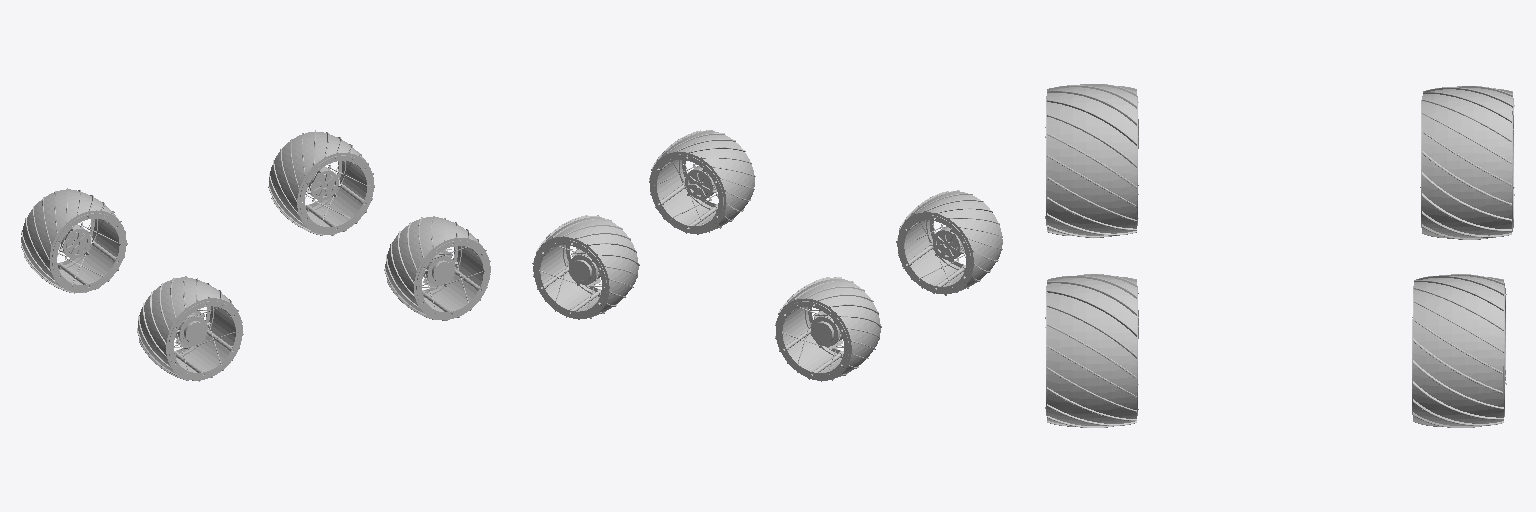
The robot description file, URDF, robot "ares_rover":
<?xml version="1.0" ?>
<!-- =================================================================================== -->
<!-- |    This document was autogenerated by xacro from ares_rover.urdf.xacro          | -->
<!-- |    EDITING THIS FILE BY HAND IS NOT RECOMMENDED                                 | -->
<!-- =================================================================================== -->
<robot name="ares_rover">
  <!-- Material Definitions -->
  <material name="mat_silver">
    <color rgba="0.8 0.8 0.8 1"/>
  </material>
  <!-- Base Link -->
  <link name="base_link">
    <inertial>
      <mass value="10"/>
      <inertia ixx="0.05" ixy="0" ixz="0" iyy="0.05" iyz="0" izz="0.1"/>
    </inertial>
    <visual>
      <origin rpy="0 0 0" xyz="0 0 0.495"/>
      <geometry>
        <mesh filename="package://ares_rover/meshes/ares_body.stl" scale="1 1 1"/>
      </geometry>
      <material name="mat_silver"/>
    </visual>
    <collision>
      <origin rpy="0 0 0" xyz="0 0 0"/>
      <geometry>
        <box size="0.8 0.6 0.2"/>
      </geometry>
    </collision>
  </link>
  <!-- Links (Arms) -->
  <!-- Left Link -->
  <link name="left_link">
    <inertial>
      <mass value="1"/>
      <inertia ixx="0.01" ixy="0" ixz="0" iyy="0.01" iyz="0" izz="0.02"/>
    </inertial>
    <visual>
      <origin rpy="0 -0 3.15" xyz="0 0.278 0.422"/>
      <geometry>
        <mesh filename="package://ares_rover/meshes/ares_link.stl" scale="1 1 1"/>
      </geometry>
    </visual>
    <collision>
      <origin rpy="0 0 0" xyz="0 0 0"/>
      <geometry>
        <box size="0.7 0.1 0.1"/>
      </geometry>
    </collision>
  </link>
  <!-- Right Link -->
  <link name="right_link">
    <inertial>
      <mass value="1"/>
      <inertia ixx="0.01" ixy="0" ixz="0" iyy="0.01" iyz="0" izz="0.02"/>
    </inertial>
    <visual>
      <origin rpy="0 0 0" xyz="0 -0.278 0.422"/>
      <geometry>
        <mesh filename="package://ares_rover/meshes/ares_link.stl" scale="1 1 1"/>
      </geometry>
    </visual>
    <collision>
      <origin rpy="0 0 0" xyz="0 0 0"/>
      <geometry>
        <box size="0.7 0.1 0.1"/>
      </geometry>
    </collision>
  </link>
  <!-- Joints between base_link and links -->
  <joint name="base_to_left_link" type="fixed">
    <parent link="base_link"/>
    <child link="left_link"/>
    <origin rpy="0 0 0" xyz="0 0 0"/>
  </joint>
  <joint name="base_to_right_link" type="fixed">
    <parent link="base_link"/>
    <child link="right_link"/>
    <origin rpy="0 0 0" xyz="0 0 0"/>
  </joint>
  <!-- Wheel Links -->
  <!-- Front Left Wheel -->
  <link name="front_left_wheel">
    <inertial>
      <mass value="0.5"/>
      <inertia ixx="0.002" ixy="0" ixz="0" iyy="0.002" iyz="0" izz="0.004"/>
    </inertial>
    <visual>
      <origin rpy="-0 0 -1.58" xyz="0.44 0.35 0.185"/>
      <geometry>
        <mesh filename="package://ares_rover/meshes/ares_wheel.stl" scale="1 1 1"/>
      </geometry>
      <material name="mat_silver"/>
    </visual>
    <collision>
      <origin rpy="1.5 0 0" xyz="0.04 1 -0.3"/>
      <geometry>
        <cylinder length="0.18" radius="0.15"/>
      </geometry>
    </collision>
  </link>
  <!-- Front Right Wheel -->
  <link name="front_right_wheel">
    <inertial>
      <mass value="0.5"/>
      <inertia ixx="0.002" ixy="0" ixz="0" iyy="0.002" iyz="0" izz="0.004"/>
    </inertial>
    <visual>
      <origin rpy="0 -0 1.569" xyz="0.44 -0.3667 0.185"/>
      <geometry>
        <mesh filename="package://ares_rover/meshes/ares_wheel.stl" scale="1 1 1"/>
      </geometry>
      <material name="mat_silver"/>
    </visual>
    <collision>
      <origin rpy="1.5 0 0" xyz="0.04 -1 -0.3"/>
      <geometry>
        <cylinder length="0.18" radius="0.15"/>
      </geometry>
    </collision>
  </link>
  <!-- Rear Left Wheel -->
  <link name="rear_left_wheel">
    <inertial>
      <mass value="0.5"/>
      <inertia ixx="0.002" ixy="0" ixz="0" iyy="0.002" iyz="0" izz="0.004"/>
    </inertial>
    <visual>
      <origin rpy="0 0 -1.58" xyz="-0.43 0.3667 0.185"/>
      <geometry>
        <mesh filename="package://ares_rover/meshes/ares_wheel.stl" scale="1 1 1"/>
      </geometry>
      <material name="mat_silver"/>
    </visual>
    <collision>
      <origin rpy="1.5 0 0" xyz="-0.04 1 -0.3"/>
      <geometry>
        <cylinder length="0.18" radius="0.15"/>
      </geometry>
    </collision>
  </link>
  <!-- Rear Right Wheel -->
  <link name="rear_right_wheel">
    <inertial>
      <mass value="0.5"/>
      <inertia ixx="0.002" ixy="0" ixz="0" iyy="0.002" iyz="0" izz="0.004"/>
    </inertial>
    <visual>
      <origin rpy="0 -0 1.569" xyz="-0.44 -0.3667 0.185"/>
      <geometry>
        <mesh filename="package://ares_rover/meshes/ares_wheel.stl" scale="1 1 1"/>
      </geometry>
      <material name="mat_silver"/>
    </visual>
    <collision>
      <origin rpy="1.5 0 0" xyz="-0.04 -1 -0.3"/>
      <geometry>
        <cylinder length="0.18" radius="0.15"/>
      </geometry>
    </collision>
  </link>
  <!-- Joints between links and wheels -->
  <!-- Each joint origin is set to the endpoint of the link to which the wheel is attached. -->
  <!-- Joint connecting left link to front left wheel -->
  <joint name="left_link_to_front_left_wheel_joint" type="continuous">
    <parent link="left_link"/>
    <child link="front_left_wheel"/>
    <origin rpy="0 0 0" xyz="0 0 0"/>
    <axis xyz="0 0 0"/>
  </joint>
  <!-- Joint connecting left link to rear left wheel -->
  <joint name="left_link_to_rear_left_wheel_joint" type="continuous">
    <parent link="left_link"/>
    <child link="rear_left_wheel"/>
    <origin rpy="0 0 0" xyz="0 0 0"/>
    <axis xyz="0 0 0"/>
  </joint>
  <!-- Joint connecting right link to front right wheel -->
  <joint name="right_link_to_front_right_wheel_joint" type="continuous">
    <parent link="right_link"/>
    <child link="front_right_wheel"/>
    <origin rpy="0 0 0" xyz="0 0 0"/>
    <axis xyz="0 0 0"/>
  </joint>
  <!-- Joint connecting right link to rear right wheel -->
  <joint name="right_link_to_rear_right_wheel_joint" type="continuous">
    <parent link="right_link"/>
    <child link="rear_right_wheel"/>
    <origin rpy="0 0 0" xyz="0 0 0"/>
    <axis xyz="0 0 0"/>
  </joint>
  <!-- Differential Drive Plugin -->
  <gazebo>
    <plugin filename="libgazebo_ros_diff_drive.so" name="differential_drive_controller">
      <rosDebugLevel>Debug</rosDebugLevel>
      <robotNamespace>/ares_rover</robotNamespace>
      <updateRate>100.0</updateRate>
      <leftJoint>left_link_to_front_left_wheel_joint</leftJoint>
      <rightJoint>right_link_to_front_right_wheel_joint</rightJoint>
      <wheelSeparation>0.4</wheelSeparation>
      <wheelDiameter>0.2</wheelDiameter>
      <torque>10</torque>
      <commandTopic>cmd_vel</commandTopic>
      <odometryTopic>odom</odometryTopic>
      <odometryFrame>odom</odometryFrame>
      <robotBaseFrame>base_link</robotBaseFrame>
    </plugin>
  </gazebo>
  <!-- Motor Plugins for Wheels -->
  <!-- Front Left Wheel Motor Plugin -->
  <gazebo>
    <plugin filename="libgazebo_ros_control.so" name="front_left_wheel_motor">
      <joint>left_link_to_front_left_wheel_joint</joint>
      <commandTopic>/ares_rover/front_left_wheel/command</commandTopic>
    </plugin>
  </gazebo>
  <!-- Front Right Wheel Motor Plugin -->
  <gazebo>
    <plugin filename="libgazebo_ros_control.so" name="front_right_wheel_motor">
      <joint>right_link_to_front_right_wheel_joint</joint>
      <commandTopic>/ares_rover/front_right_wheel/command</commandTopic>
    </plugin>
  </gazebo>
  <!-- Rear Left Wheel Motor Plugin -->
  <gazebo>
    <plugin filename="libgazebo_ros_control.so" name="rear_left_wheel_motor">
      <joint>left_link_to_rear_left_wheel_joint</joint>
      <commandTopic>/ares_rover/rear_left_wheel/command</commandTopic>
    </plugin>
  </gazebo>
  <!-- Rear Right Wheel Motor Plugin -->
  <gazebo>
    <plugin filename="libgazebo_ros_control.so" name="rear_right_wheel_motor">
      <joint>right_link_to_rear_right_wheel_joint</joint>
      <commandTopic>/ares_rover/rear_right_wheel/command</commandTopic>
    </plugin>
  </gazebo>
</robot>

--- What the picture shows (computed from the rendered views, not written in the file) ---
Views: 3 orthographic renders of the robot side by side, from view 1: azimuth 30°, elevation 25°; view 2: azimuth 150°, elevation 25°; view 3: azimuth 270°, elevation 25°.
Model ares_rover with 7 links and 6 joints (4 continuous, 2 fixed), rooted at base_link, posed all joints at 0.
Visible links, largest first — view 1: front_right_wheel, rear_right_wheel, front_left_wheel, rear_left_wheel; view 2: rear_left_wheel, front_left_wheel, front_right_wheel, rear_right_wheel; view 3: front_left_wheel, rear_left_wheel, rear_right_wheel, front_right_wheel.
Boxes of the visible links, x1,y1,x2,y2 form: front_right_wheel: (384, 216, 490, 320); rear_right_wheel: (137, 276, 243, 381); front_left_wheel: (268, 130, 374, 235); rear_left_wheel: (21, 188, 127, 293); rear_left_wheel: (775, 277, 881, 381); front_left_wheel: (532, 215, 639, 319); front_right_wheel: (649, 130, 755, 234); rear_right_wheel: (896, 190, 1002, 295); front_left_wheel: (1412, 274, 1506, 427); rear_left_wheel: (1420, 86, 1514, 239); rear_right_wheel: (1045, 84, 1138, 237); front_right_wheel: (1045, 274, 1138, 427).
Bounding box of the posed robot: 1.18 × 0.9196 × 0.2997 m (x, y, z).
Meshes: 3 distinct files referenced, 4 mesh visuals loaded (1 binary STL); not drawn: 3 (reference not matched to a file when rendering).